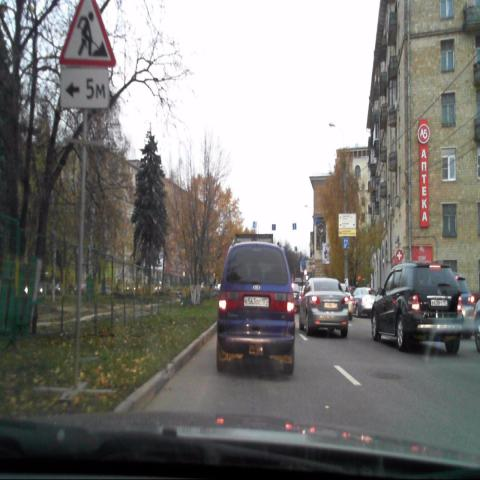8_1_4: (60, 68, 110, 110)
